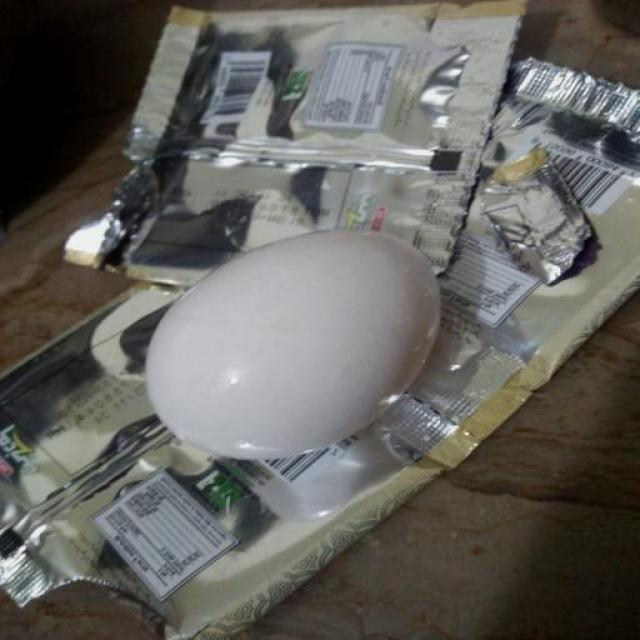telur: (139, 218, 450, 479)
